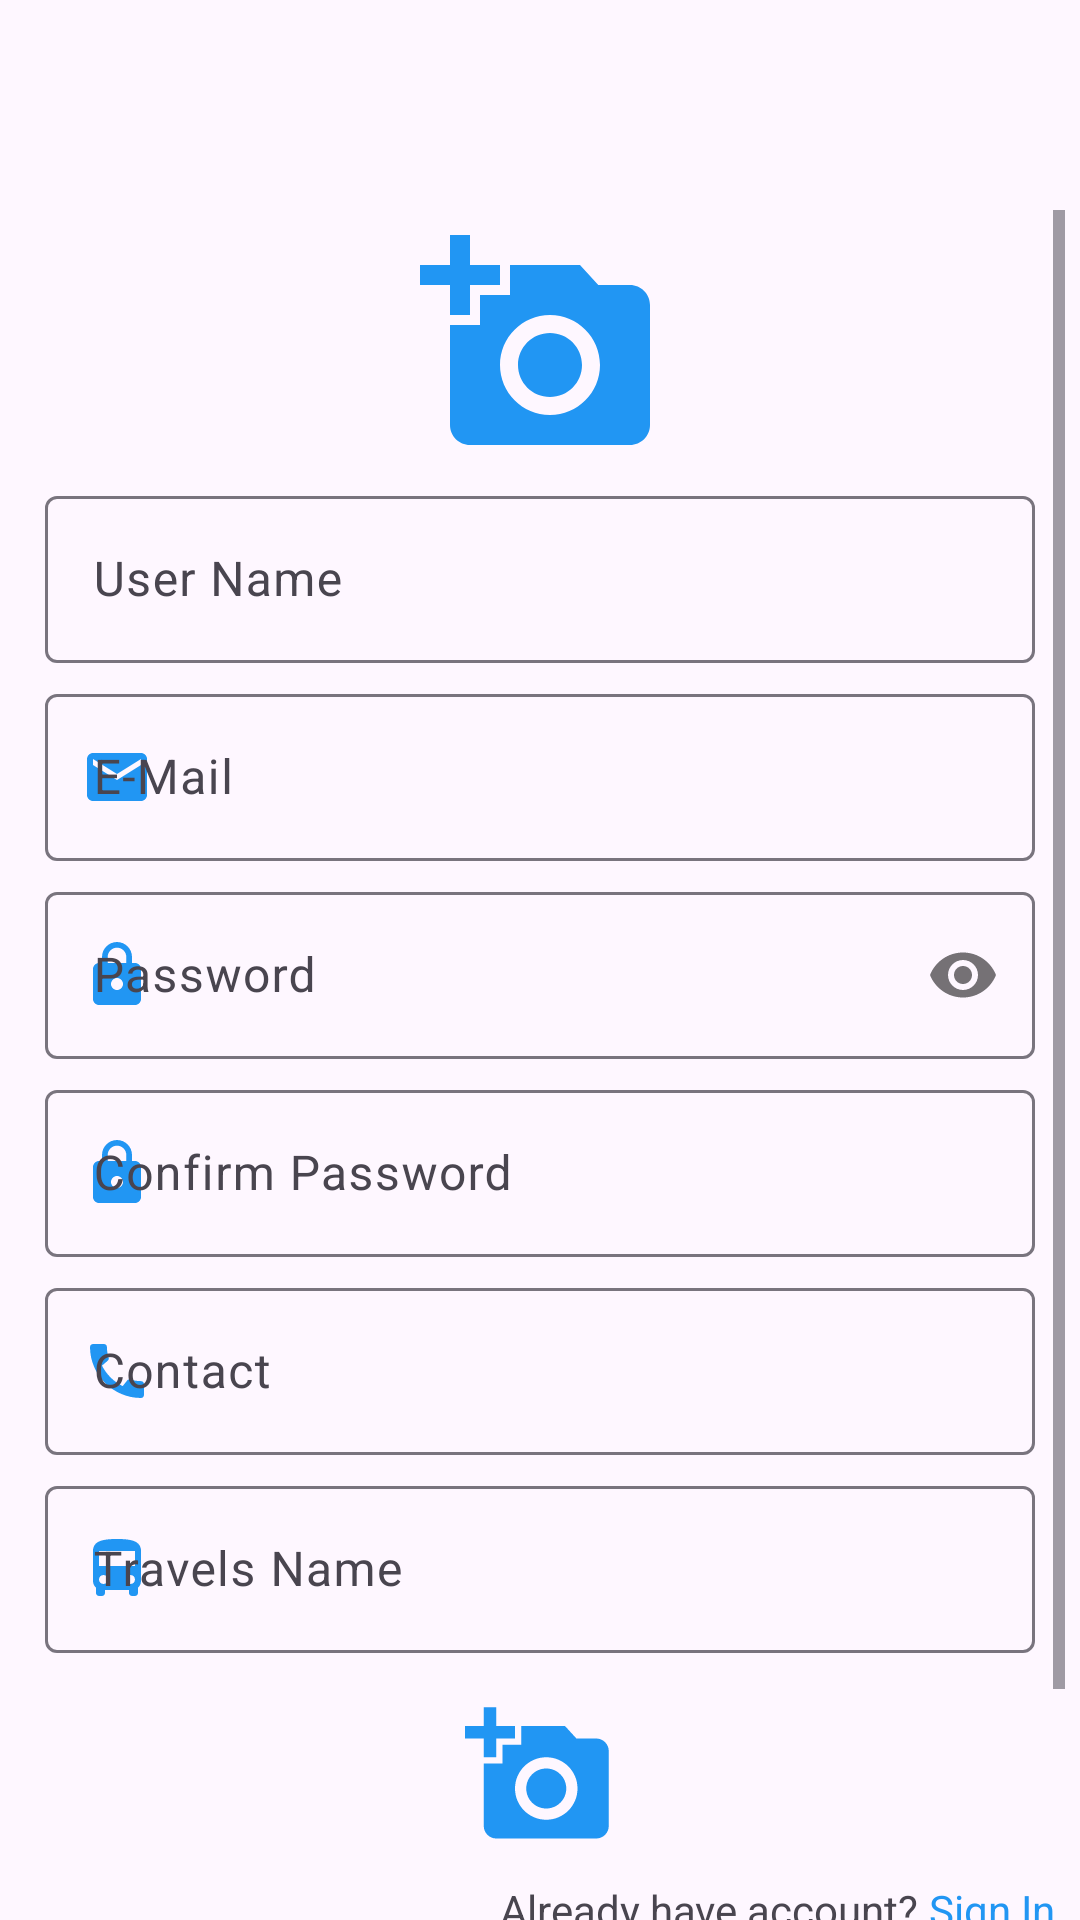

Named icons in this screenshot (1080 × 1920) and their centers, point (x, y):
add photo: point (535, 340), point (537, 1773)
